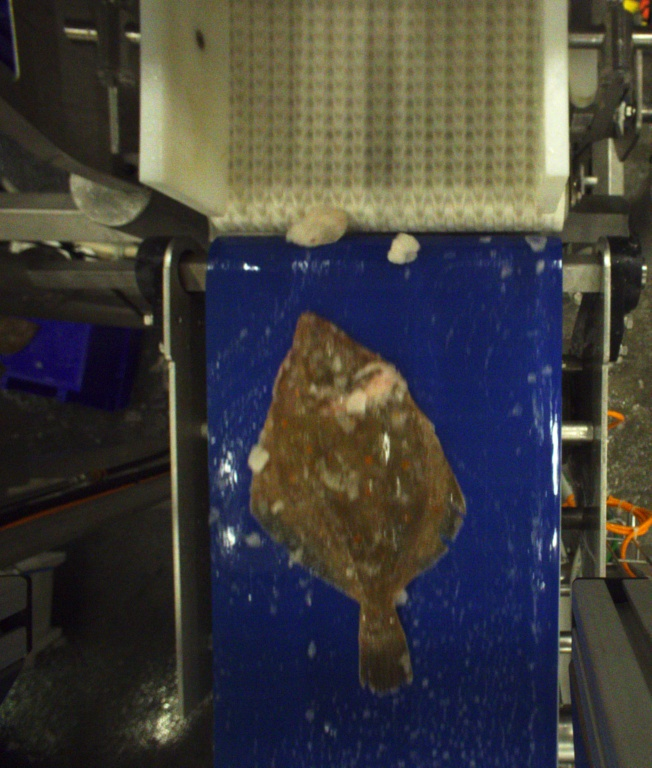PLE: (243, 309, 474, 700)
